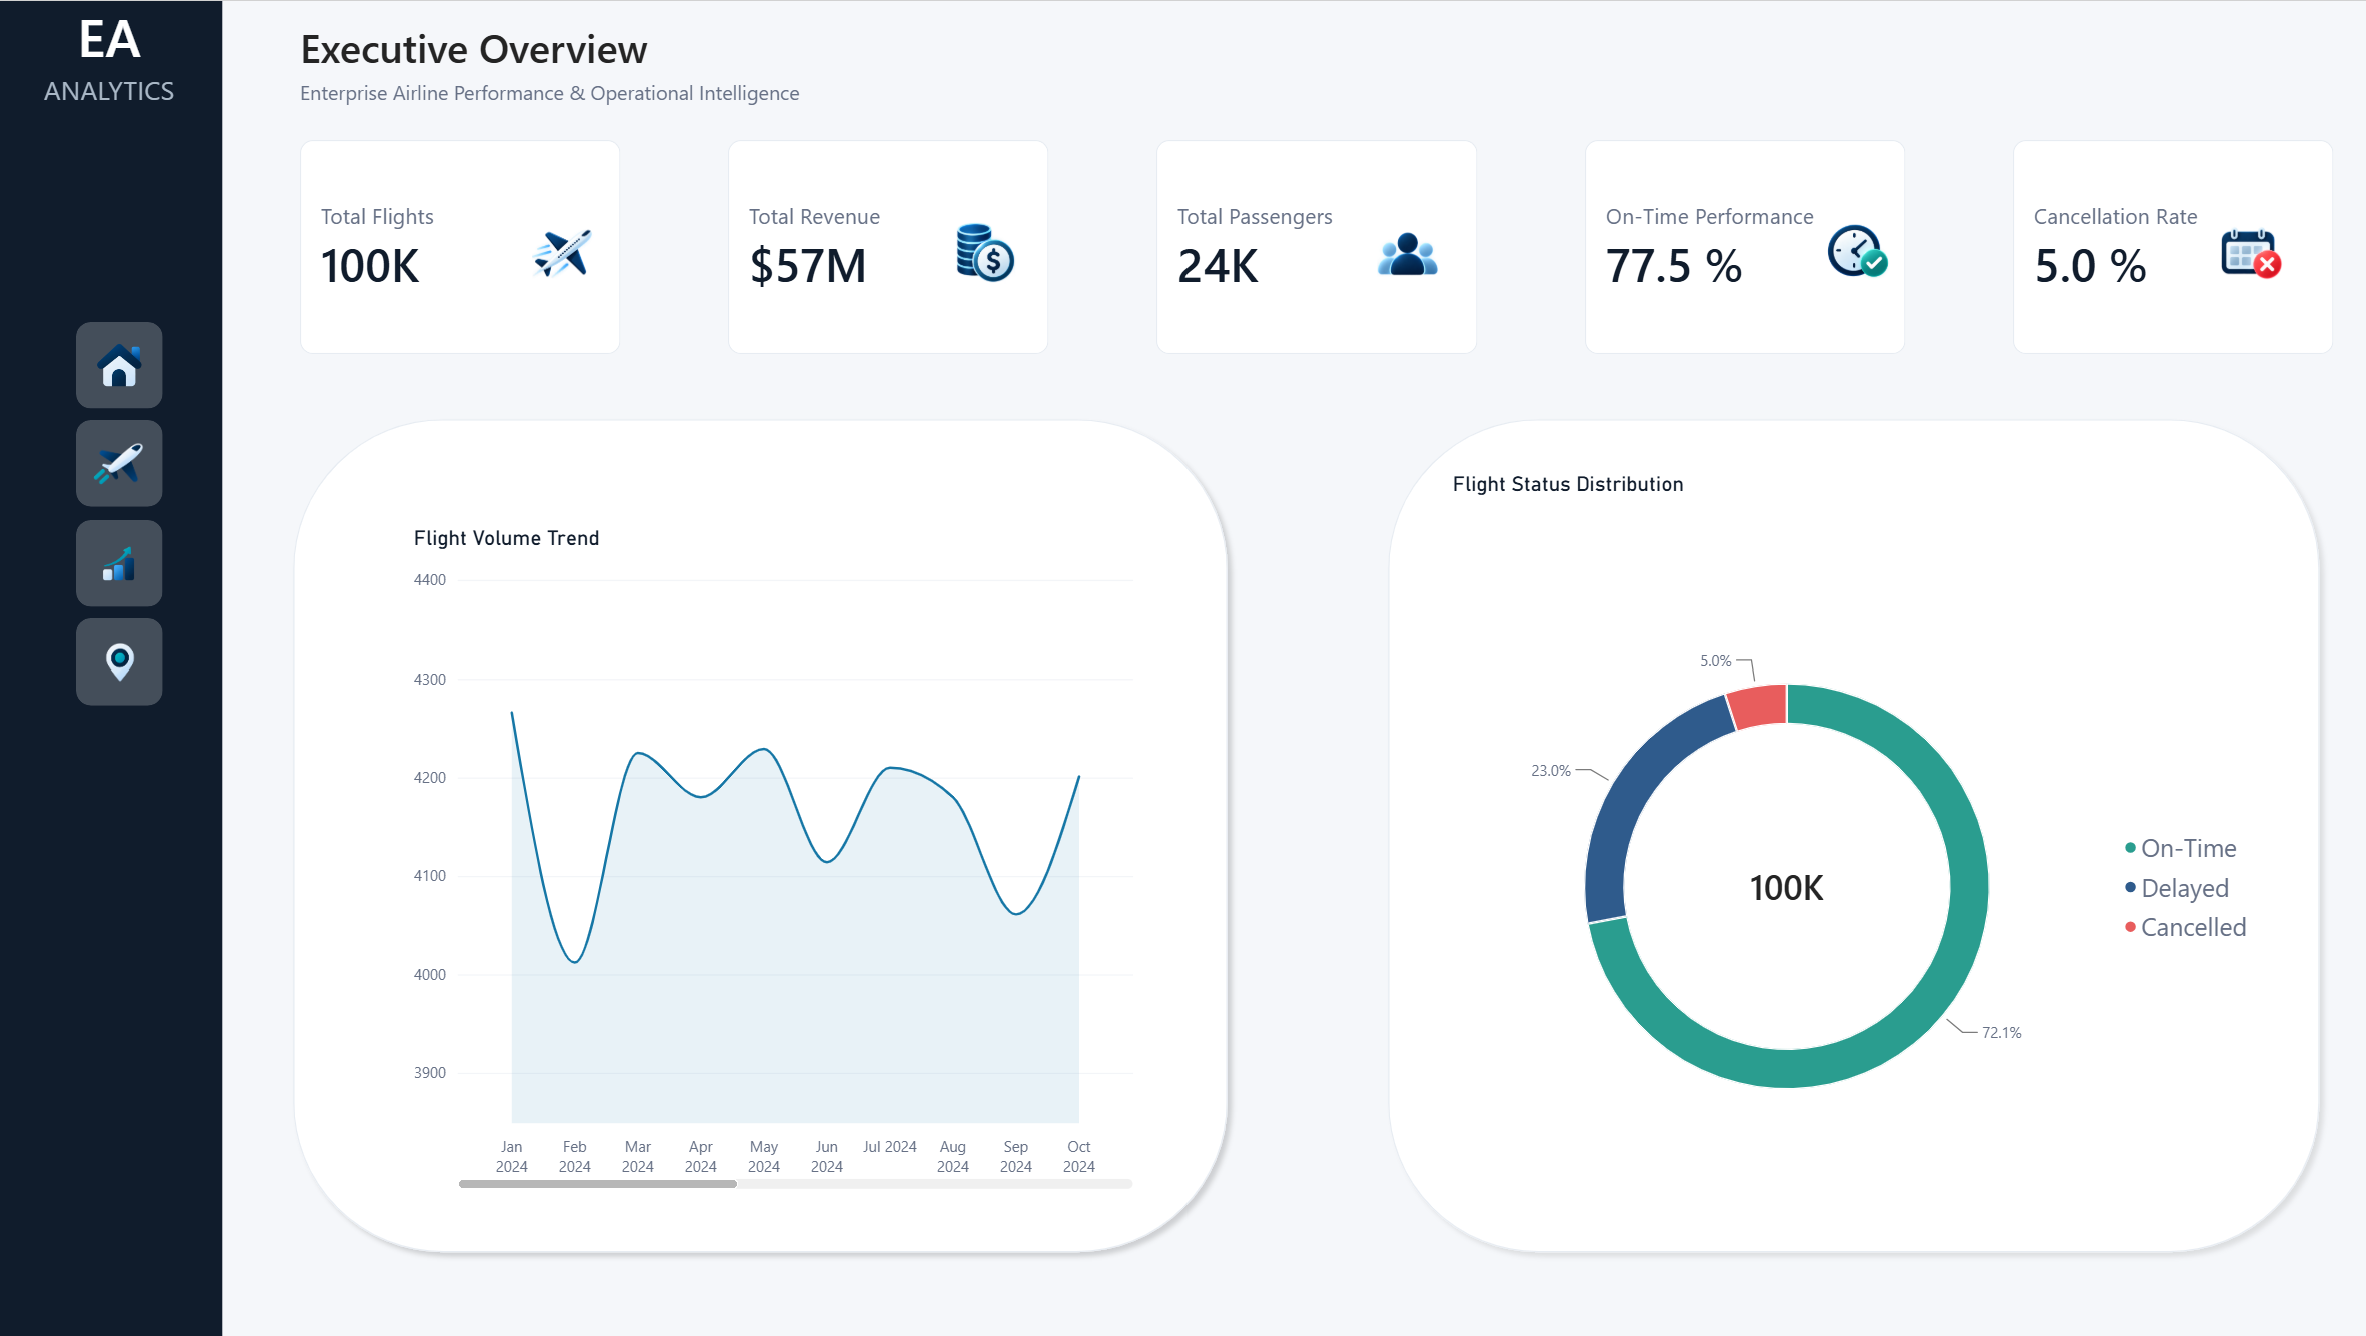

Layout of this report page (visuals, bound fields, positions):
{"tool":"powerbi","page":{"name":"01 | Executive Overview","canvas":[1920,1080],"ordinal":0},"visuals":[{"type":"shape","box":[1115.8,330.3,770.6,690.4],"z":0},{"type":"shape","box":[231.4,330.3,772.5,690.4],"z":1000},{"type":"shape","box":[0,0,182.9,1079.3],"z":2000},{"type":"textbox","box":[246,15.9,325.3,68.2],"z":3000},{"type":"textbox","box":[246,63.5,560.1,66.6],"z":4000},{"type":"cardVisual","fields":{"Data":["_Measures.Total Flights"]},"box":[246.4,113.6,259.3,173.6],"z":5000},{"type":"cardVisual","fields":{"Data":["_Measures.Total Revenue"]},"box":[592,113.6,259.3,173.6],"z":6000},{"type":"cardVisual","fields":{"Data":["_Measures.Total Passengers"]},"box":[937.5,113.6,259.3,173.6],"z":7000},{"type":"cardVisual","fields":{"Data":["_Measures.On-Time Performance %"]},"box":[1283,113.6,259.3,173.6],"z":8000},{"type":"cardVisual","fields":{"Data":["_Measures.Cancellation Rate %"]},"box":[1628.6,113.6,259.3,173.6],"z":9000},{"type":"image","box":[432.9,178.8,50,50],"z":10000},{"type":"image","box":[774.1,178.8,50,50],"z":11000},{"type":"image","box":[1115.4,178.8,50,50],"z":12000},{"type":"image","box":[1478.6,177.9,50,50],"z":13000},{"type":"image","box":[1797.9,178.8,50,50],"z":14000},{"type":"lineChart","title":"Flight Volume Trend","fields":{"Category":["Dim_Date.Month Year"],"Y":["_Measures.Total Flights"]},"box":[320.9,410.5,615.7,565.4],"z":15000},{"type":"donutChart","title":"Flight Status Distribution","fields":{"Category":["Fact_Flights.Flight_Status"],"Y":["_Measures.Total Flights"]},"box":[1160.6,367.6,682.9,664.3],"z":16000},{"type":"textbox","box":[0,0,182.9,58],"z":17000},{"type":"textbox","box":[0,58,182.9,55.7],"z":18000},{"type":"actionButton","box":[64.7,260.9,70,70],"z":19000},{"type":"image","box":[78,276.5,44.6,37.9],"z":20000},{"type":"actionButton","box":[64,340,70,70],"z":21000},{"type":"actionButton","box":[64.7,420,70,70],"z":22000},{"type":"actionButton","box":[64.7,500,70,70],"z":23000},{"type":"image","box":[78,356,44,37],"z":24000},{"type":"image","box":[78,436,44,37],"z":25000},{"type":"image","box":[78,516,44,37],"z":26000}]}

Visuals, with their boxes in screenshot pixels (x1, y1, x2, y2), scaled from the page's 1920x1080 canvas onto the 2366x1336 screenshot:
shape: 1375, 409, 2325, 1263
shape: 285, 409, 1237, 1263
shape: 0, 0, 225, 1335
textbox: 303, 20, 704, 104
textbox: 303, 79, 993, 161
cardVisual - _Measures.Total Flights: 304, 141, 623, 355
cardVisual - _Measures.Total Revenue: 730, 141, 1049, 355
cardVisual - _Measures.Total Passengers: 1155, 141, 1475, 355
cardVisual - _Measures.On-Time Performance %: 1581, 141, 1901, 355
cardVisual - _Measures.Cancellation Rate %: 2007, 141, 2326, 355
image: 533, 221, 595, 283
image: 954, 221, 1016, 283
image: 1374, 221, 1436, 283
image: 1822, 220, 1884, 282
image: 2216, 221, 2277, 283
"Flight Volume Trend" lineChart: 395, 508, 1154, 1207
"Flight Status Distribution" donutChart: 1430, 455, 2272, 1276
textbox: 0, 0, 225, 72
textbox: 0, 72, 225, 141
actionButton: 80, 323, 166, 409
image: 96, 342, 151, 389
actionButton: 79, 421, 165, 507
actionButton: 80, 520, 166, 606
actionButton: 80, 619, 166, 705
image: 96, 440, 150, 486
image: 96, 539, 150, 585
image: 96, 638, 150, 684
